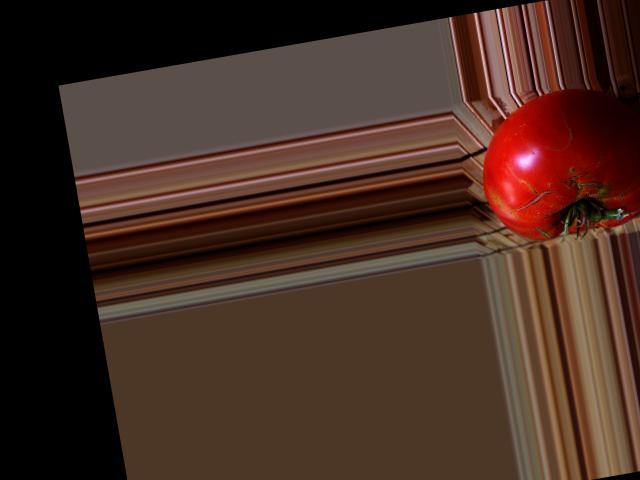tomato: (470, 77, 640, 248)
